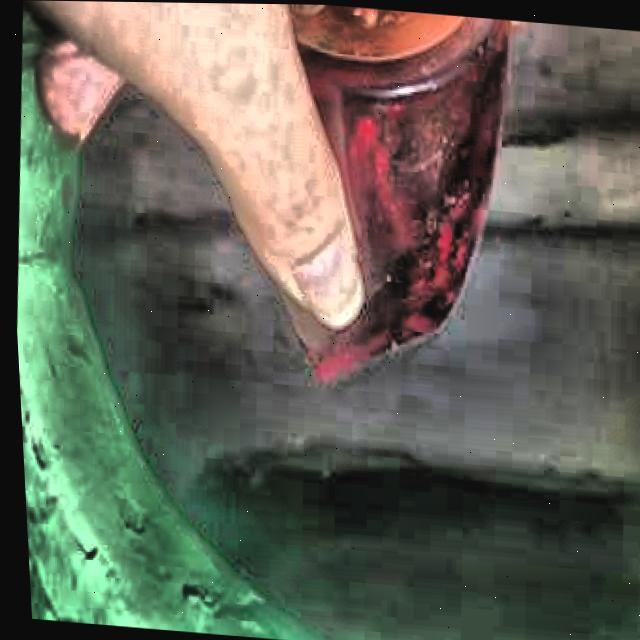glass: (284, 4, 506, 379)
